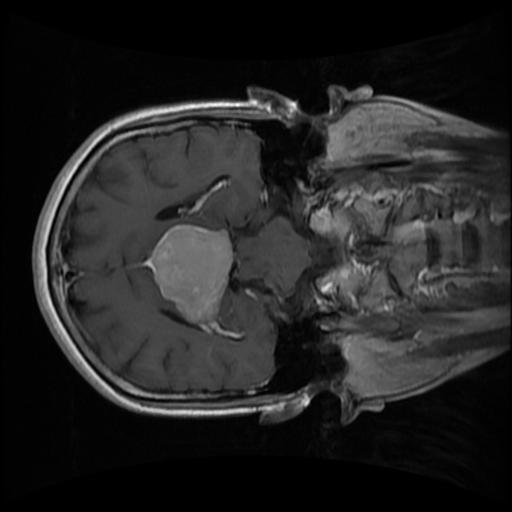meningioma: (150, 223, 232, 325)
